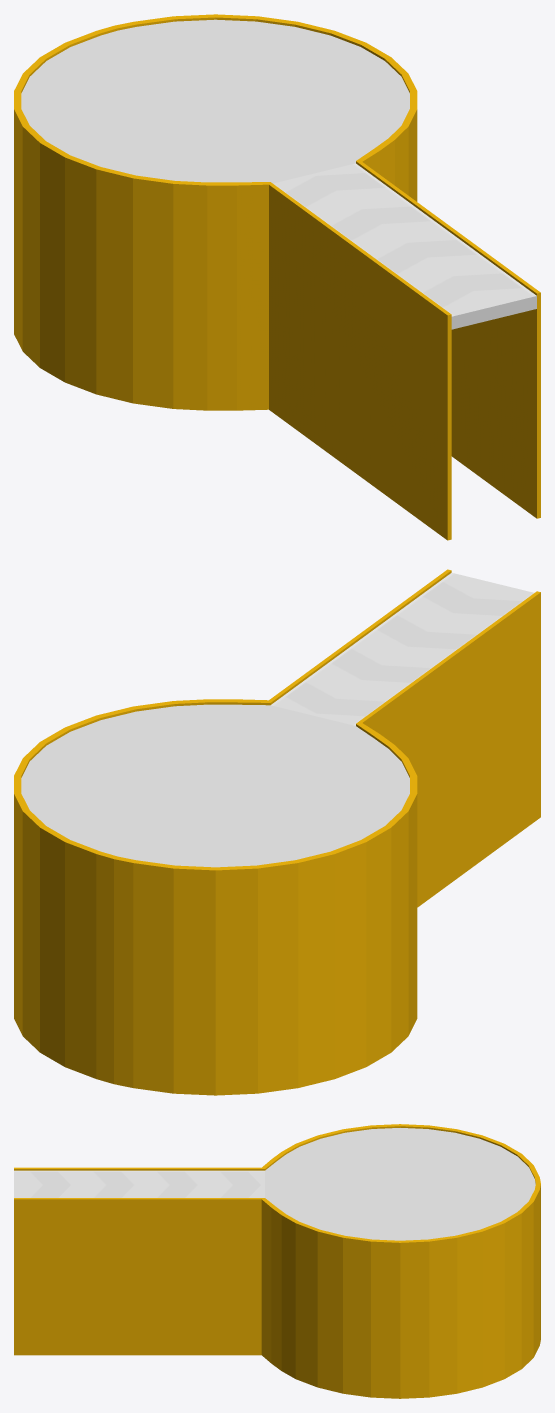
The model's file is Abstract_Path_00 (1).fbx.
The picture shows the model from 3 angles, top to bottom: view 1: azimuth 30°, elevation 25°; view 2: azimuth 150°, elevation 25°; view 3: azimuth 270°, elevation 25°; orthographic projection. The views are drawn at different scales.
Visible parts, largest first — view 1: Abstract_Path_00; view 2: Abstract_Path_00; view 3: Abstract_Path_00.
Boxes of the visible parts, <box> form: Abstract_Path_00: <box>14,14,540,540</box>; Abstract_Path_00: <box>14,569,540,1095</box>; Abstract_Path_00: <box>14,1124,540,1398</box>.
Bounding box in the file's own units: 24.74 × 15.15 × 46.39.
2 materials, 2 textured.
